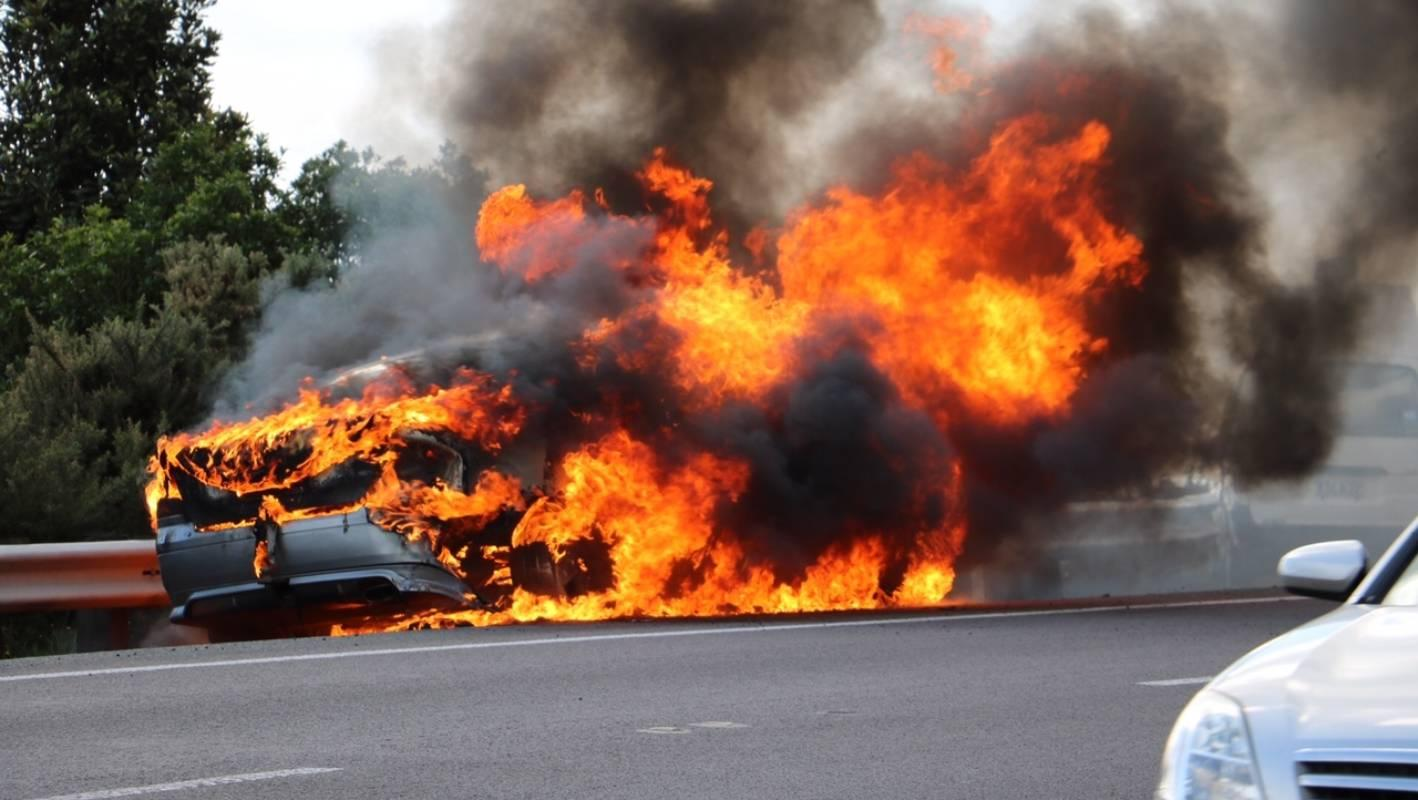fire: (583, 113, 1143, 423), (146, 364, 522, 538), (521, 427, 754, 624), (759, 526, 969, 617), (474, 182, 586, 280), (896, 6, 998, 102), (323, 590, 517, 634), (482, 543, 511, 587), (436, 542, 470, 579), (253, 542, 270, 576)
smoke: (1135, 0, 1416, 496), (411, 0, 887, 162), (218, 168, 470, 393), (758, 418, 1129, 521), (997, 0, 1133, 112), (471, 279, 574, 377), (964, 521, 1071, 596), (787, 339, 884, 417), (563, 220, 642, 313), (887, 103, 986, 161), (712, 161, 820, 213), (688, 404, 755, 453)
